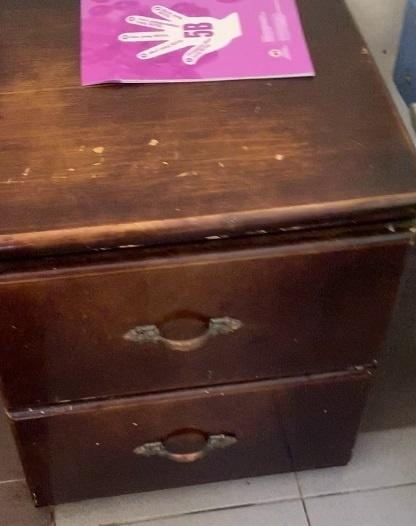cabinet_door: (0, 259, 405, 392), (11, 385, 374, 481)
handle: (119, 309, 246, 363), (131, 425, 240, 473)
